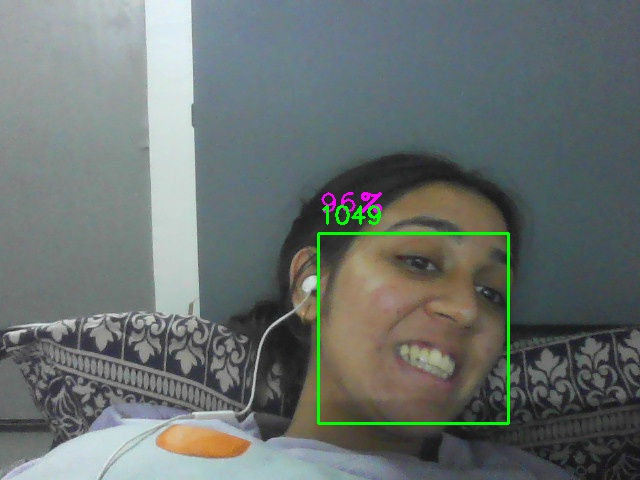real: (318, 233, 509, 424)
